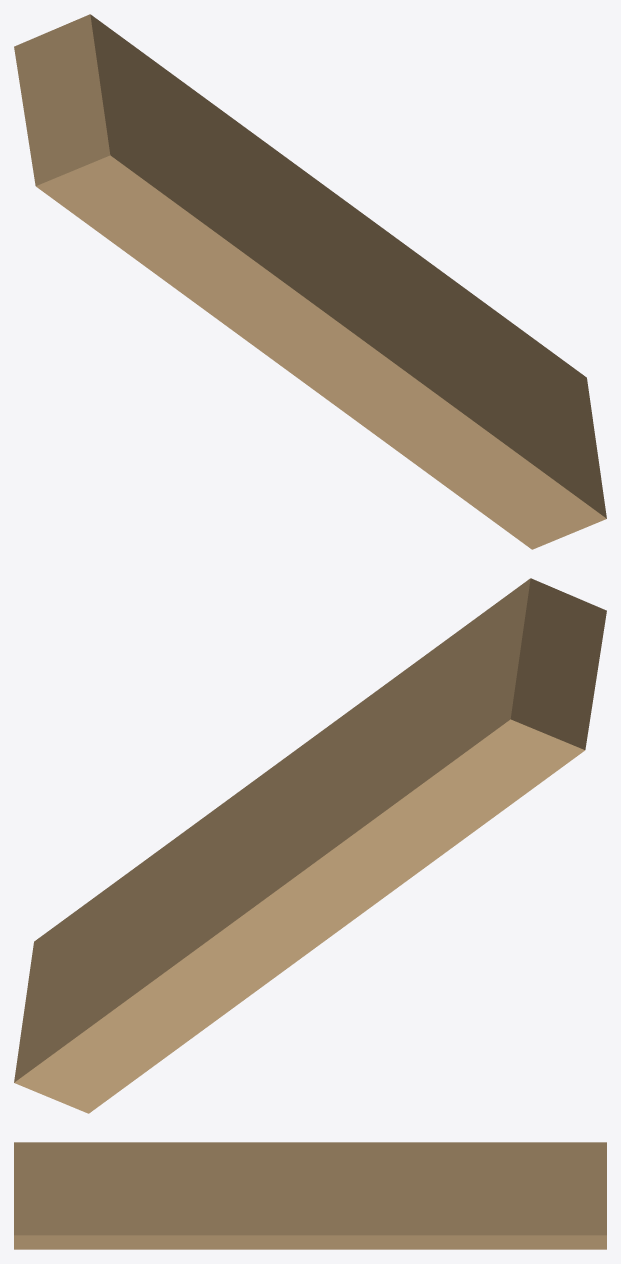
The picture shows the model from 3 angles, top to bottom: view 1: azimuth 30°, elevation 25°; view 2: azimuth 150°, elevation 25°; view 3: azimuth 270°, elevation 25°; orthographic projection. The views are drawn at different scales.
Parts seen in each view (by area): view 1: 0_1_2_0_3_1_2_3_0_2_3_3; view 2: 0_1_2_0_3_1_2_3_0_2_3_3; view 3: 0_1_2_0_3_1_2_3_0_2_3_3.
Part boxes in pixels (bbox=[...]): 0_1_2_0_3_1_2_3_0_2_3_3: bbox=[14, 14, 606, 549]; 0_1_2_0_3_1_2_3_0_2_3_3: bbox=[14, 578, 606, 1113]; 0_1_2_0_3_1_2_3_0_2_3_3: bbox=[14, 1142, 606, 1249].
Bounding box in the file's own units: 2.35 × 3.71 × 21.
